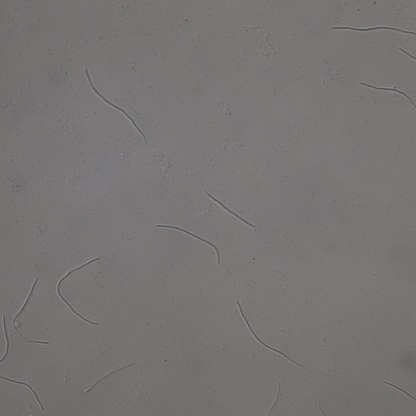Sensitive: (83, 69, 147, 144), (238, 300, 301, 366), (57, 256, 100, 326), (155, 222, 220, 264), (12, 275, 49, 345), (205, 190, 256, 227), (360, 82, 416, 111), (85, 360, 134, 392), (1, 375, 44, 411), (332, 23, 416, 34), (384, 380, 416, 402), (268, 382, 283, 415), (1, 316, 10, 363)
